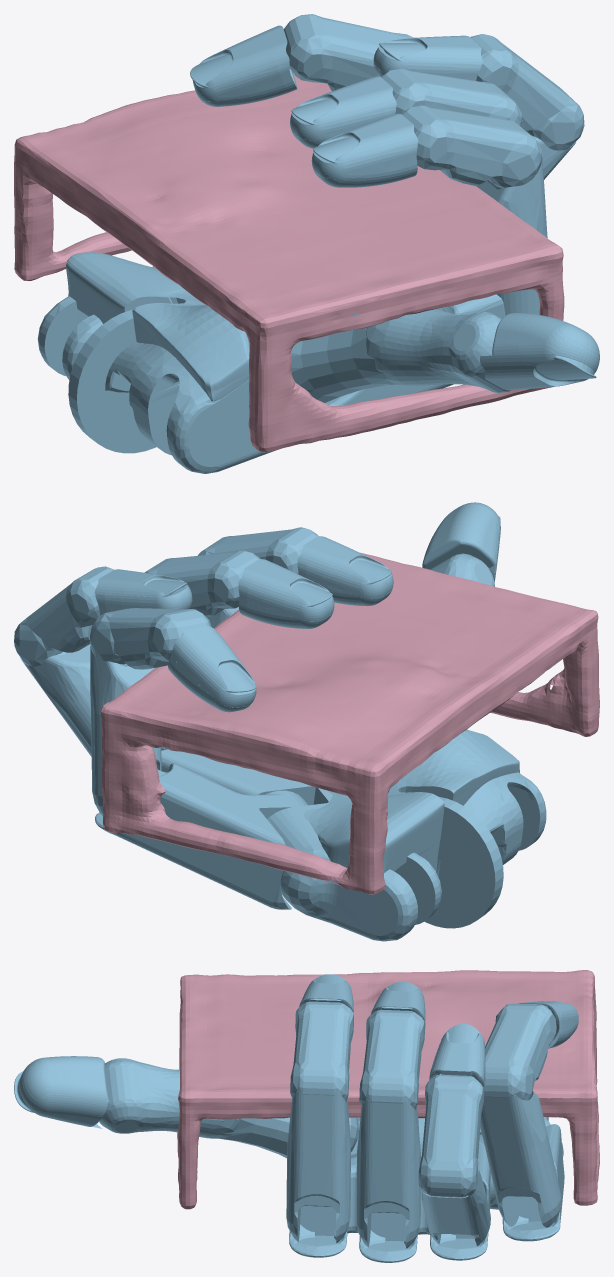
The picture shows the model from 3 angles, top to bottom: view 1: azimuth 30°, elevation 25°; view 2: azimuth 150°, elevation 25°; view 3: azimuth 270°, elevation 25°; orthographic projection. The views are drawn at different scales.
Visible parts, largest first — view 1: hand, world; view 2: hand, world; view 3: hand, world.
Part boxes in pixels (x1,y1,x2,y2): hand: (37,14,599,473); world: (14,73,564,452); hand: (14,502,546,941); world: (100,552,599,894); hand: (14,974,578,1262); world: (177,970,599,1209).
Size of the model in its own units: 0.1547 by 0.0946 by 0.1831.
